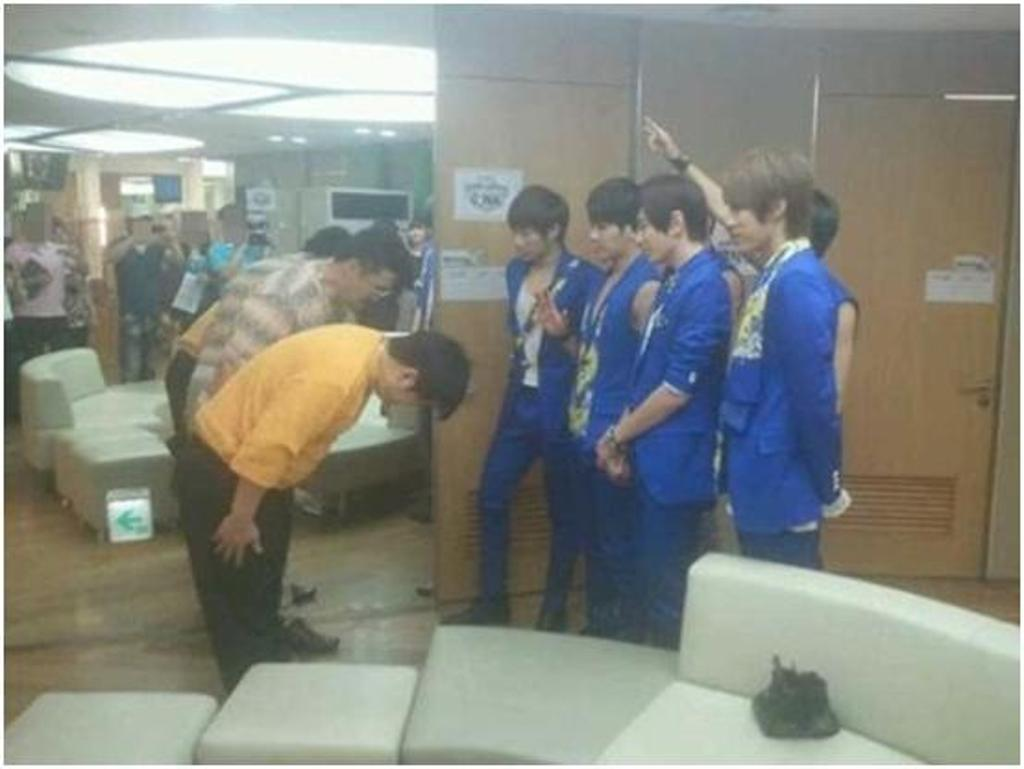face: (341, 260, 407, 309), (727, 189, 774, 252), (634, 207, 672, 263), (380, 377, 439, 413), (513, 216, 551, 261), (589, 214, 620, 258), (132, 220, 151, 242), (409, 227, 424, 242)
